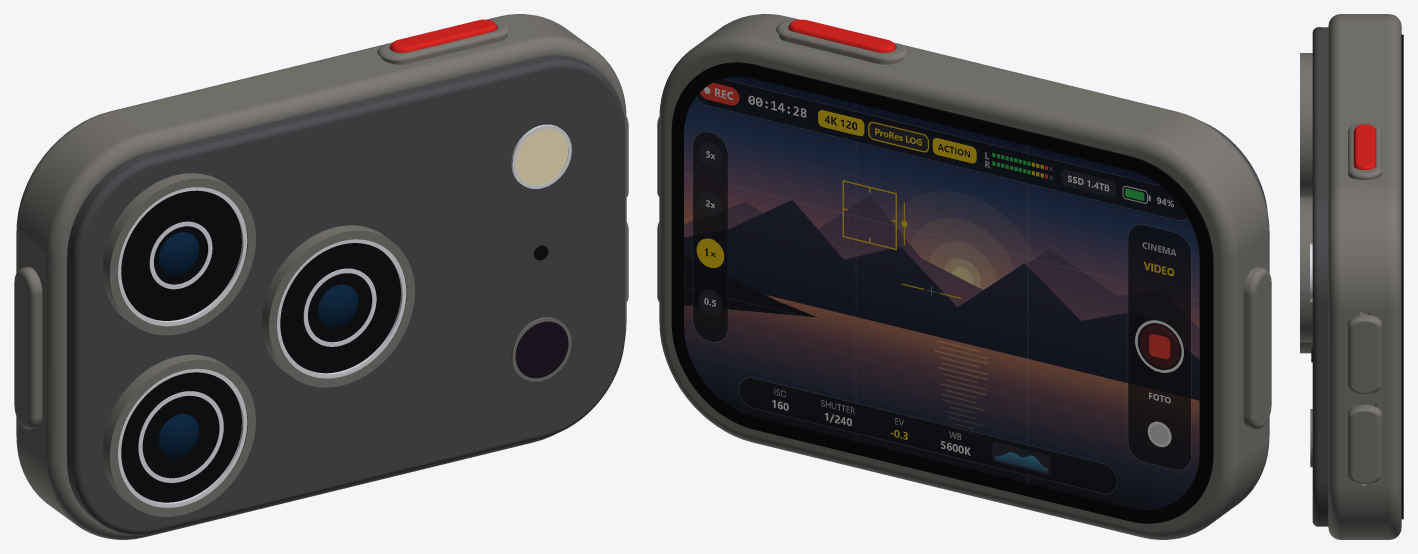
Rendered from iphone17pro_mini_v3.glb.
3 renders of one model, left to right at view 1: azimuth 30°, elevation 25°; view 2: azimuth 150°, elevation 25°; view 3: azimuth 270°, elevation 25°, orthographic. The views are drawn at different scales.
Visible parts, largest first — view 1: V3_Camera_Plateau, V3_Main_Body_Titanium, V3_Lens_Aperture_UltraWide_48MP, V3_Lens_Aperture_Telephoto_5x, V3_Lens_Aperture_Main_48MP, V3_Lens_Ring_Main_48MP, V3_Lens_Ring_UltraWide_48MP, V3_Lens_Ring_Telephoto_5x, V3_Power_Button_Left, V3_Lens_Barrel_Main_48MP, V3_LiDAR_Scanner, V3_TrueTone_Flash (+15 smaller); view 2: V3_Rear_OLED_Active_Screen, V3_Main_Body_Titanium, V3_Rear_Screen_Bezel_Glass, V3_Power_Button_Left, V3_REC_Button_Collar, V3_REC_Button_Red_Center; view 3: V3_Main_Body_Titanium, V3_Camera_Plateau, V3_Volume_Down_Button, V3_Volume_Up_Button, V3_Lens_Ring_UltraWide_48MP, V3_Lens_Ring_Telephoto_5x, V3_Rear_Screen_Bezel_Glass, V3_REC_Button_Red_Center, V3_REC_Button_Collar, V3_Flash_Ring, V3_LiDAR_Ring, V3_Lens_Ring_Main_48MP.
Part boxes in pixels (bbox=[...]): V3_Camera_Plateau: bbox=[67, 55, 624, 534]; V3_Main_Body_Titanium: bbox=[16, 14, 626, 539]; V3_Lens_Aperture_UltraWide_48MP: bbox=[121, 190, 241, 320]; V3_Lens_Aperture_Telephoto_5x: bbox=[280, 243, 400, 373]; V3_Lens_Aperture_Main_48MP: bbox=[121, 372, 241, 502]; V3_Lens_Ring_Main_48MP: bbox=[102, 354, 255, 516]; V3_Lens_Ring_UltraWide_48MP: bbox=[102, 173, 255, 335]; V3_Lens_Ring_Telephoto_5x: bbox=[261, 225, 414, 387]; V3_Power_Button_Left: bbox=[14, 266, 42, 429]; V3_Lens_Barrel_Main_48MP: bbox=[142, 395, 217, 477]; V3_LiDAR_Scanner: bbox=[515, 321, 568, 378]; V3_TrueTone_Flash: bbox=[516, 129, 568, 185]; V3_Rear_OLED_Active_Screen: bbox=[684, 76, 1199, 510]; V3_Main_Body_Titanium: bbox=[659, 14, 1269, 539]; V3_Rear_Screen_Bezel_Glass: bbox=[671, 62, 1213, 523]; V3_Power_Button_Left: bbox=[1243, 266, 1271, 429]; V3_REC_Button_Collar: bbox=[776, 19, 908, 64]; V3_REC_Button_Red_Center: bbox=[788, 19, 896, 60]; V3_Main_Body_Titanium: bbox=[1328, 14, 1401, 539]; V3_Camera_Plateau: bbox=[1312, 27, 1328, 526]; V3_Volume_Down_Button: bbox=[1348, 404, 1382, 483]; V3_Volume_Up_Button: bbox=[1348, 315, 1382, 393]; V3_Lens_Ring_UltraWide_48MP: bbox=[1300, 53, 1312, 197]; V3_Lens_Ring_Telephoto_5x: bbox=[1300, 197, 1312, 342]; V3_Rear_Screen_Bezel_Glass: bbox=[1401, 34, 1403, 519]; V3_REC_Button_Red_Center: bbox=[1353, 124, 1376, 169]; V3_REC_Button_Collar: bbox=[1348, 123, 1382, 180]; V3_Flash_Ring: bbox=[1310, 243, 1312, 301]; V3_LiDAR_Ring: bbox=[1310, 409, 1312, 467]; V3_Lens_Ring_Main_48MP: bbox=[1300, 342, 1312, 353].
Size of the model in its own units: 0.4783 by 0.3177 by 0.0836.
Materials: 10 (1 with a texture image).
